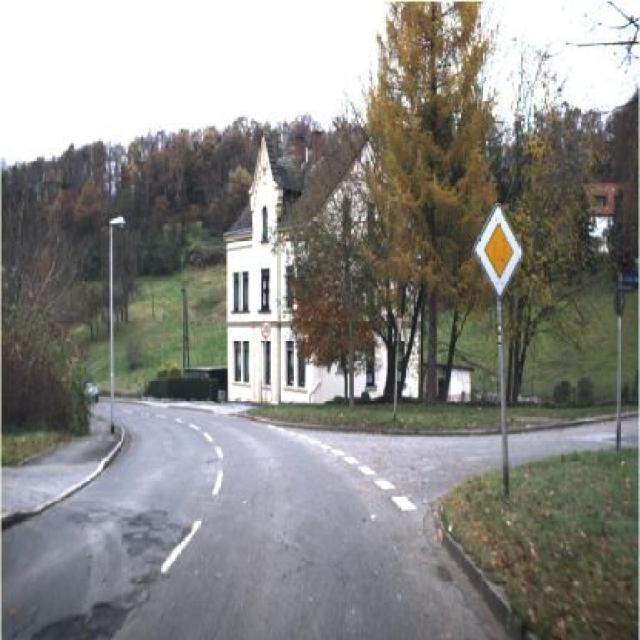forb_speed_over_30: (260, 320, 272, 342)
